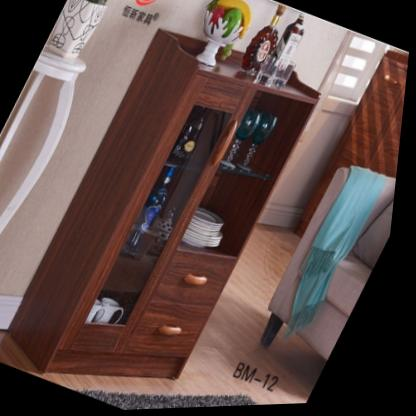Cupboard: (14, 30, 321, 382)
Wooden floor: (3, 225, 330, 407)
